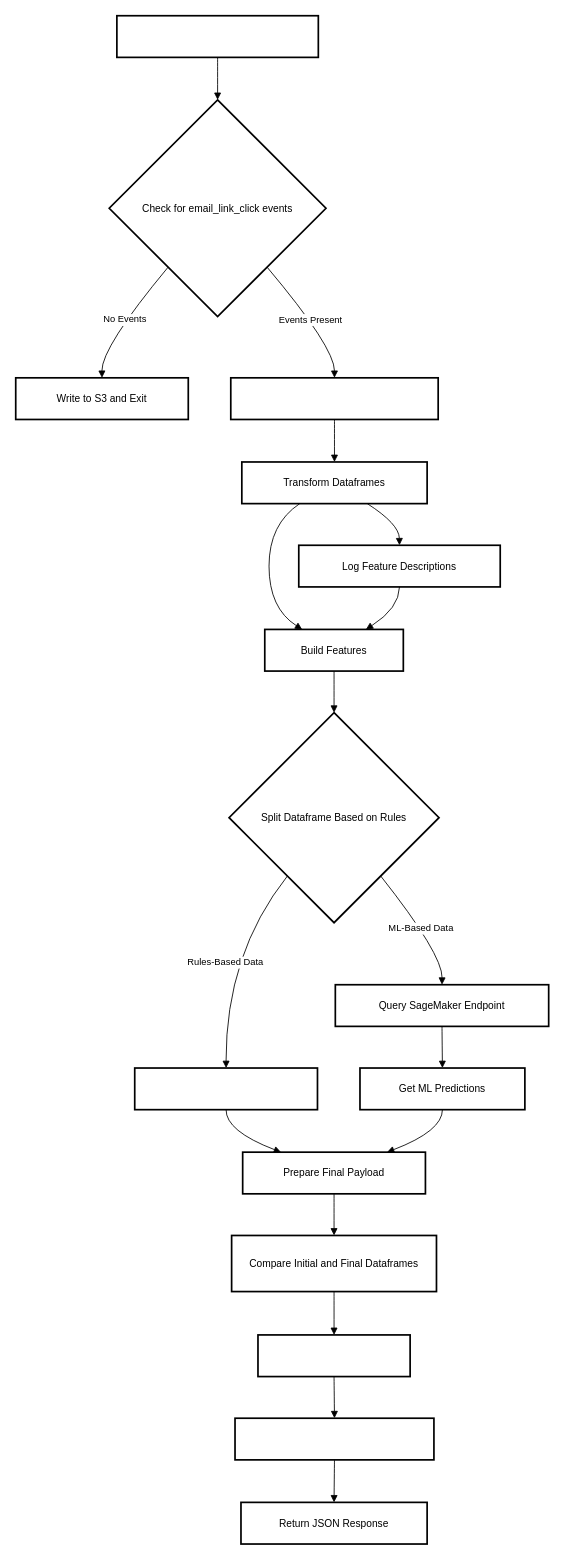
Some shapes in this 564 by 1559 pixel diagram are drawn without their labels. The shapes that lost their labels are listed below. From the top down, each one's box as (x1, y1, x2, y2) in pixels, then its label:
(116, 14, 319, 58): Lambda Handler Invoked
(230, 377, 439, 420): Prepare Input Dataframes
(133, 1067, 318, 1110): Log Rules-Based Flags
(257, 1334, 411, 1377): Log Final Results
(234, 1417, 434, 1460): Write Final Results to S3
